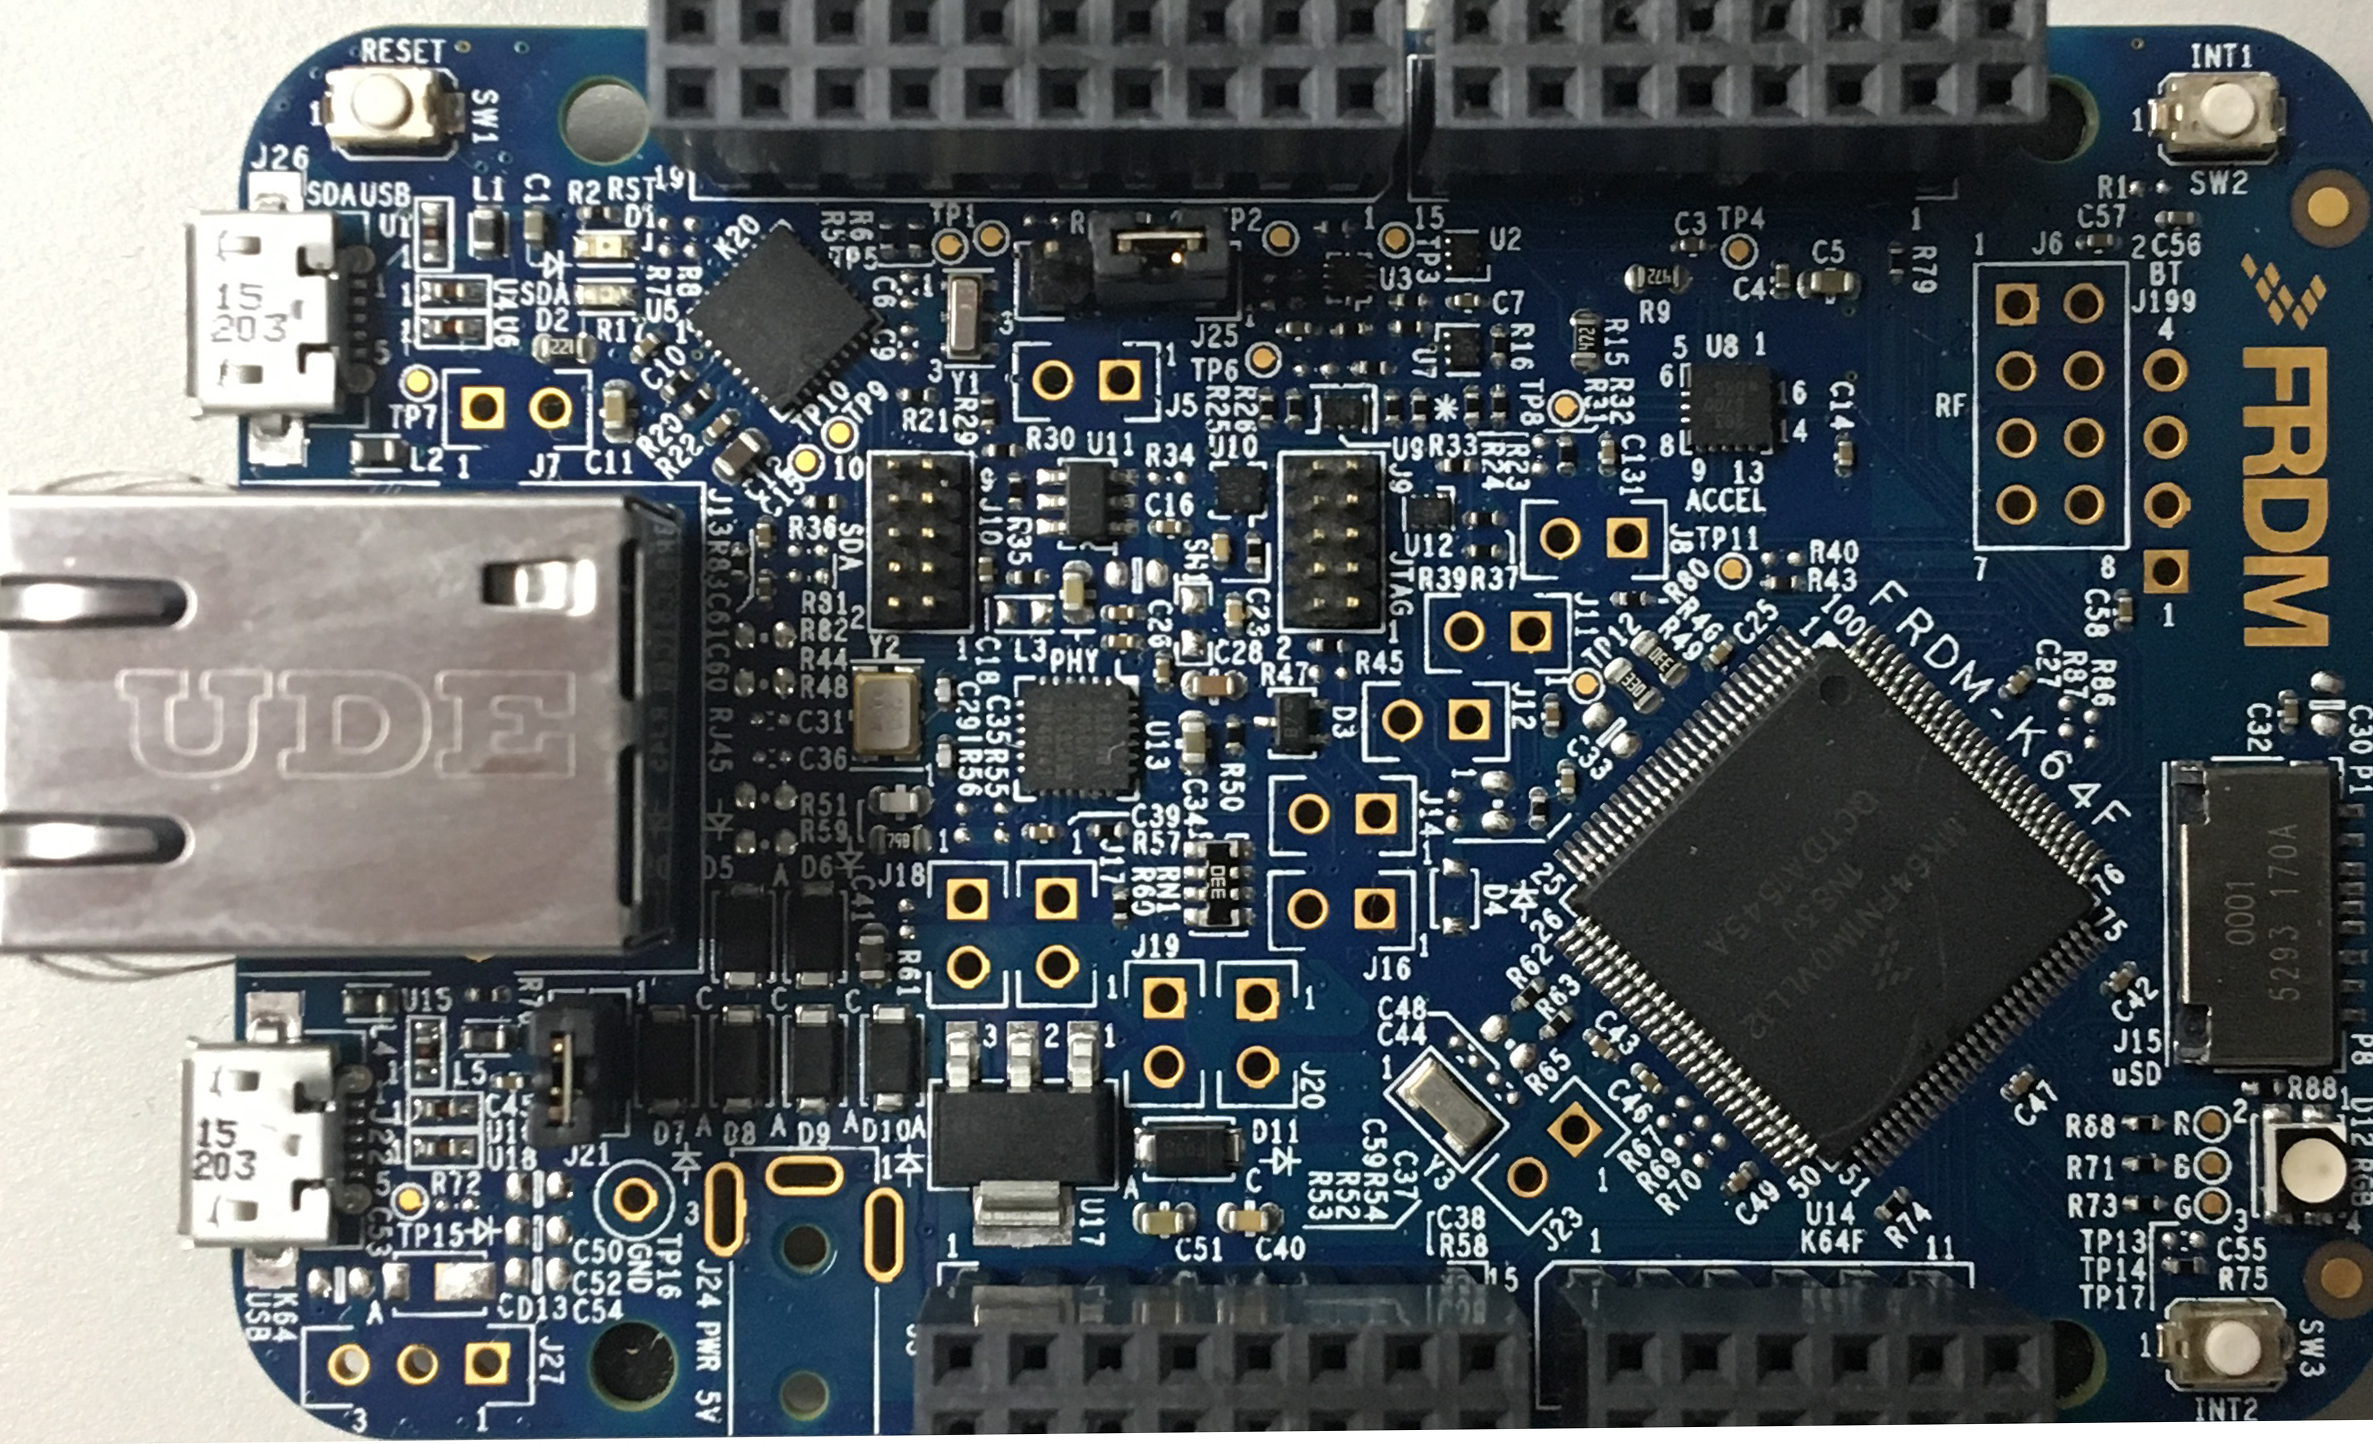button SW1: (324, 64, 461, 163)
button SW2: (2161, 73, 2288, 163)
button SW3: (2166, 1298, 2287, 1395)
capacitor C1: (522, 205, 547, 251)
capacitor C10: (629, 329, 663, 364)
capacitor C11: (600, 380, 634, 446)
capacitor C12: (700, 407, 737, 446)
capacitor C13: (1598, 432, 1615, 476)
capacitor C14: (1834, 430, 1854, 483)
capacitor C15: (712, 429, 768, 483)
capacitor C16: (1146, 519, 1193, 541)
capacitor C18: (973, 547, 997, 597)
capacitor C23: (1224, 595, 1244, 637)
capacitor C25: (1703, 637, 1736, 668)
capacitor C26: (1153, 651, 1175, 693)
capacitor C27: (2000, 664, 2032, 702)
capacitor C28: (1180, 671, 1249, 703)
capacitor C29: (934, 671, 953, 715)
capacitor C3: (1673, 236, 1714, 256)
capacitor C32: (2275, 690, 2304, 737)
capacitor C34: (1176, 712, 1210, 776)
capacitor C35: (932, 736, 953, 776)
capacitor C37: (1558, 763, 1578, 803)
capacitor C39: (1024, 824, 1058, 842)
capacitor C4: (1773, 259, 1792, 302)
capacitor C40: (1219, 1205, 1281, 1237)
capacitor C41: (858, 929, 892, 986)
capacitor C42: (2102, 959, 2137, 997)
capacitor C43: (1585, 1027, 1617, 1063)
capacitor C45: (486, 1073, 527, 1091)
capacitor C46: (1634, 1064, 1663, 1098)
capacitor C47: (1998, 1064, 2039, 1103)
capacitor C49: (1724, 1163, 1754, 1200)
capacitor C5: (1797, 264, 1861, 303)
capacitor C51: (1136, 1203, 1197, 1237)
capacitor C56: (2153, 210, 2198, 230)
capacitor C57: (2066, 230, 2120, 254)
capacitor C58: (2117, 590, 2136, 632)
capacitor C59: (1542, 695, 1561, 737)
capacitor C7: (1449, 292, 1485, 314)
capacitor unknown: (1275, 320, 1320, 337), (1102, 605, 1142, 624), (1212, 530, 1231, 569), (1102, 632, 1141, 651)
clock Y1: (942, 269, 986, 364)
clock Y2: (846, 663, 927, 773)
clock Y3: (1398, 1058, 1498, 1158)
component text" "0001 5293 170A: (2220, 815, 2309, 1007)
component text" "15 203: (203, 276, 303, 351), (190, 1115, 263, 1186)
component text" "203 8700 DKG: (1702, 376, 1749, 432)
component text" "MK64FN1M0VLL12 1N83J QCTDA1545A: (1697, 775, 1981, 1037)
component text" 330: (1209, 863, 1227, 903)
component text" 472: (1576, 325, 1597, 354), (1646, 266, 1673, 286)
component text" 798: (886, 830, 910, 851)
component text" B79: (1281, 697, 1302, 741)
component text" F03: (1173, 1141, 1212, 1158)
component text" UDE: (103, 659, 598, 793)
connector J10: (868, 451, 973, 636)
connector J11: (1425, 593, 1570, 671)
connector J12: (1363, 681, 1509, 759)
connector J14: (1266, 775, 1417, 858)
connector J15: (2165, 758, 2370, 1068)
connector J16: (1266, 871, 1415, 951)
connector J17: (1017, 859, 1097, 1010)
connector J18: (931, 863, 1007, 1010)
connector J19: (1124, 959, 1205, 1108)
connector J199: (2136, 342, 2200, 605)
connector J20: (1214, 963, 1297, 1108)
connector J22: (176, 990, 361, 1291)
connector J23: (1471, 1076, 1631, 1232)
connector J24: (705, 1147, 907, 1436)
connector J25: (1012, 236, 1088, 320)
connector J26: (181, 207, 370, 430)
connector J27: (303, 1329, 534, 1407)
connector J5: (1012, 341, 1163, 424)
connector J6: (1973, 261, 2131, 553)
connector J7: (2, 469, 703, 983), (444, 368, 592, 447)
connector J8: (1522, 500, 1666, 580)
connector J9: (1278, 451, 1385, 632)
connector unknown: (647, 2, 1409, 200), (1417, 2, 2054, 203), (910, 1266, 1536, 1444), (1549, 1261, 2070, 1442)
diode D10: (863, 1014, 924, 1110)
diode D11: (1141, 1119, 1236, 1181)
diode D3: (1258, 691, 1331, 763)
diode D5: (712, 886, 776, 985)
diode D6: (786, 885, 846, 985)
diode D7: (632, 1014, 698, 1112)
diode D8: (712, 1014, 775, 1110)
diode D9: (785, 1014, 846, 1108)
ic "MK64FN1M0VLL12 IN83J QCTDA1545A: (1549, 620, 2093, 1169)
ic K20: (685, 224, 871, 417)
ic U10: (1209, 459, 1270, 519)
ic U11: (1036, 459, 1139, 551)
ic U12: (1402, 486, 1454, 536)
ic U13: (1017, 676, 1139, 800)
ic U17: (927, 1017, 1122, 1251)
ic U2: (1442, 229, 1492, 281)
ic U3: (1325, 251, 1371, 303)
ic U7: (1436, 320, 1485, 376)
ic U8: (1685, 358, 1776, 454)
ic U9: (1315, 392, 1368, 436)
inductor L2: (347, 436, 410, 475)
inductor L4: (341, 986, 398, 1024)
inductor L5: (461, 1019, 514, 1058)
jumper J21: (527, 990, 629, 1147)
jumper J25: (1086, 202, 1242, 317)
led D1: (571, 229, 641, 268)
led D12: (2266, 1117, 2353, 1217)
led D2: (573, 276, 639, 315)
pads C30: (2307, 668, 2346, 742)
pads C31: (746, 708, 793, 732)
pads C33: (1580, 702, 1642, 763)
pads C36: (747, 747, 793, 771)
pads C44: (1487, 1071, 1522, 1108)
pads C48: (1446, 1030, 1485, 1073)
pads C50: (503, 1169, 576, 1208)
pads C52: (498, 1214, 576, 1252)
pads C53: (307, 1263, 373, 1305)
pads C54: (503, 1254, 571, 1295)
pads C55: (2158, 1229, 2210, 1254)
pads C6: (897, 269, 920, 314)
pads C9: (893, 320, 919, 369)
pads D13: (380, 1251, 497, 1319)
pads D4: (1427, 856, 1480, 936)
pads L3: (993, 593, 1058, 632)
pads R1: (2126, 176, 2175, 198)
pads R3: (1019, 207, 1068, 232)
pads R31: (786, 541, 836, 563), (1532, 432, 1549, 478)
pads R34: (1144, 468, 1193, 492)
pads R40: (1759, 549, 1809, 571)
pads R44: (736, 620, 798, 653)
pads R51: (731, 780, 798, 817)
pads R52: (1476, 768, 1517, 841)
pads R53: (1446, 783, 1468, 841)
pads R55: (993, 802, 1014, 847)
pads R56: (949, 798, 973, 849)
pads R59: (731, 827, 802, 863)
pads R65: (1481, 1015, 1537, 1071)
pads R67: (1658, 1095, 1693, 1129)
pads R69: (1675, 1115, 1709, 1149)
pads R7: (653, 214, 676, 259)
pads R70: (1693, 1134, 1727, 1168)
pads R72: (431, 1195, 485, 1215)
pads R8: (678, 214, 707, 264)
pads R82: (786, 564, 832, 590)
pads R86: (2081, 705, 2100, 754)
pads R87: (2058, 693, 2078, 742)
pads SW1: (1176, 581, 1210, 664)
pads unknown: (1102, 554, 1170, 597), (1292, 361, 1341, 381)
resistor R15: (1570, 308, 1598, 373)
resistor R16: (1487, 320, 1509, 373)
resistor R17: (529, 332, 598, 364)
resistor R2: (575, 203, 620, 224)
resistor R20: (659, 368, 693, 403)
resistor R21: (895, 386, 942, 408)
resistor R22: (676, 386, 714, 422)
resistor R23: (1488, 381, 1509, 430), (1409, 390, 1431, 432)
resistor R24: (1381, 386, 1405, 432), (1463, 385, 1481, 430)
resistor R25: (1258, 388, 1273, 430)
resistor R26: (1285, 386, 1303, 429)
resistor R29: (976, 395, 998, 437)
resistor R30: (980, 444, 1027, 459)
resistor R32: (1558, 436, 1576, 476)
resistor R33: (1434, 456, 1478, 475)
resistor R35: (1009, 564, 1048, 591), (1003, 471, 1025, 514)
resistor R36: (798, 492, 842, 512)
resistor R37: (1461, 508, 1512, 530)
resistor R39: (1459, 541, 1509, 568)
resistor R43: (1759, 571, 1805, 593)
resistor R45: (1303, 636, 1353, 658)
resistor R46: (1634, 629, 1685, 686)
resistor R47: (1307, 664, 1354, 686)
resistor R48: (732, 668, 798, 698)
resistor R49: (1607, 659, 1661, 714)
resistor R5: (873, 212, 898, 264)
resistor R50: (1222, 717, 1248, 759)
resistor R54: (1527, 788, 1549, 830)
resistor R57: (1086, 822, 1127, 842)
resistor R6: (902, 212, 927, 263)
resistor R60: (1112, 886, 1132, 927)
resistor R61: (897, 897, 917, 944)
resistor R62: (1514, 976, 1544, 1012)
resistor R63: (1537, 1008, 1571, 1041)
resistor R68: (2120, 1112, 2166, 1136)
resistor R7: (461, 986, 512, 1007)
resistor R71: (2122, 1154, 2168, 1176)
resistor R73: (2115, 1190, 2170, 1217)
resistor R74: (1875, 1190, 1907, 1224)
resistor R75: (2165, 1256, 2209, 1281)
resistor R79: (1887, 237, 1905, 286)
resistor R80: (1610, 590, 1653, 608)
resistor R88: (2242, 1081, 2287, 1098)
resistor R9: (1626, 264, 1693, 292)
resistor network" RN1: (1186, 832, 1249, 937)
resistor unknown: (870, 825, 931, 856), (1242, 532, 1266, 575), (1349, 361, 1393, 380), (1331, 320, 1373, 339), (1387, 293, 1431, 310), (1385, 320, 1427, 337)
test point" TP1: (975, 219, 1009, 258)
test point" TP10: (788, 444, 825, 481)
test point" TP11: (1715, 553, 1749, 591)
test point" TP12: (1568, 669, 1603, 705)
test point" TP13: (2193, 1105, 2231, 1142)
test point" TP14: (2193, 1146, 2231, 1185)
test point" TP15: (390, 1181, 425, 1224)
test point" TP16: (607, 1175, 663, 1229)
test point" TP17: (2190, 1188, 2236, 1224)
test point" TP2: (1263, 224, 1298, 254)
test point" TP3: (1376, 224, 1414, 258)
test point" TP4: (1720, 232, 1763, 273)
test point" TP5: (931, 225, 968, 264)
test point" TP6: (1246, 342, 1280, 378)
test point" TP7: (398, 363, 441, 403)
test point" TP8: (1546, 385, 1585, 429)
test point" TP9: (820, 419, 859, 453)
text *: (1432, 390, 1461, 429)
text -: (1985, 703, 2009, 725)
text 1: (1793, 612, 1820, 641), (370, 268, 388, 308), (1749, 329, 1771, 359), (1592, 1164, 1610, 1198), (2158, 598, 2176, 630), (1376, 1051, 1395, 1083), (1905, 207, 1926, 236), (1102, 975, 1122, 1003), (454, 451, 471, 485), (876, 1149, 893, 1183), (1164, 337, 1180, 375), (939, 1234, 963, 1258), (2127, 103, 2144, 136), (1302, 981, 1319, 1014), (1587, 1224, 1603, 1256), (1359, 203, 1376, 234), (953, 634, 968, 668), (1102, 1019, 1119, 1049), (1970, 229, 1987, 258), (1068, 829, 1085, 858), (1542, 675, 1573, 690), (307, 98, 322, 129), (937, 820, 949, 858), (2137, 1332, 2153, 1361), (1387, 615, 1400, 646), (1419, 837, 1432, 868), (1415, 930, 1431, 958), (475, 1407, 490, 1434), (922, 271, 934, 302), (2339, 1085, 2349, 1112)
text 10: (831, 453, 864, 483)
text 100: (1819, 590, 1866, 641)
text 11: (1924, 1234, 1958, 1263)
text 13: (1732, 454, 1764, 486)
text 14: (1775, 415, 1810, 447)
text 15: (1412, 203, 1448, 234), (1488, 1264, 1522, 1295)
text 16: (1776, 376, 1809, 408)
text 19: (653, 163, 692, 197)
text 2: (2127, 232, 2153, 264), (1041, 1020, 1063, 1051), (1275, 632, 1295, 663), (847, 603, 868, 632), (2231, 1097, 2248, 1129)
text 25: (1527, 863, 1570, 898)
text 26: (1525, 907, 1570, 946)
text 3: (990, 307, 1024, 337), (927, 356, 944, 388), (683, 1198, 702, 1227), (981, 1020, 998, 1051), (2232, 1207, 2249, 1234), (351, 1408, 368, 1434)
text 31: (1617, 464, 1651, 500)
text 4: (2153, 315, 2181, 346), (2342, 1212, 2363, 1237)
text 5: (368, 334, 393, 373), (1671, 330, 1690, 363), (375, 1168, 392, 1198)
text 50: (1787, 1164, 1820, 1200)
text 51: (1836, 1163, 1875, 1198)
text 5V: (693, 1386, 720, 1427)
text 6: (1656, 359, 1676, 392)
text 7: (1970, 556, 1990, 585)
text 75: (2088, 903, 2136, 946)
text 76: (2085, 859, 2132, 902)
text 8: (2098, 553, 2119, 583), (1656, 430, 1676, 459)
text 9: (1687, 453, 1710, 486), (976, 463, 997, 495)
text A: (1120, 1173, 1142, 1203), (770, 863, 792, 890), (693, 1114, 715, 1141), (841, 1107, 859, 1137), (909, 1114, 927, 1142), (366, 1298, 385, 1327), (770, 1114, 790, 1139)
text ACCEL: (1680, 483, 1770, 519)
text B: (2171, 1151, 2190, 1181)
text BT: (2144, 259, 2185, 286)
text C: (1241, 1166, 1266, 1197), (841, 986, 863, 1017), (693, 985, 715, 1014), (768, 985, 788, 1015)
text C1: (519, 168, 553, 210), (1620, 429, 1649, 468)
text C10: (637, 342, 688, 392)
text C11: (583, 447, 637, 481)
text C12: (736, 453, 788, 502)
text C14: (1827, 376, 1858, 432)
text C15: (754, 475, 809, 515)
text C16: (1141, 490, 1197, 520)
text C18: (975, 634, 1003, 686)
text C23: (1246, 586, 1273, 639)
text C25: (1726, 598, 1785, 646)
text C26: (1142, 598, 1175, 653)
text C27: (2034, 637, 2063, 691)
text C28: (1215, 637, 1264, 668)
text C29: (954, 680, 981, 732)
text C3: (1673, 207, 1710, 241)
text C30: (2348, 702, 2373, 753)
text C31: (793, 708, 849, 736)
text C32: (2242, 698, 2275, 756)
text C33: (1563, 734, 1617, 783)
text C34: (1180, 778, 1210, 830)
text C35: (981, 691, 1014, 746)
text C36: (798, 744, 847, 775)
text C37: (1392, 1147, 1424, 1202)
text C38: (1437, 1202, 1487, 1230)
text C39: (1131, 798, 1181, 829)
text C4: (1731, 271, 1768, 302)
text C40: (1253, 1234, 1309, 1264)
text C41: (849, 871, 876, 924)
text C42: (2110, 978, 2159, 1024)
text C43: (1588, 1003, 1648, 1059)
text C44: (1371, 1020, 1431, 1047)
text C45: (485, 1093, 537, 1120)
text C46: (1603, 1076, 1654, 1127)
text C47: (2012, 1078, 2059, 1125)
text C48: (1375, 993, 1429, 1020)
text C49: (1732, 1180, 1783, 1225)
text C5: (1807, 234, 1849, 264)
text C50: (573, 1236, 627, 1264)
text C51: (1173, 1236, 1227, 1264)
text C52: (570, 1268, 624, 1297)
text C53: (366, 1203, 395, 1266)
text C54: (570, 1297, 627, 1329)
text C55: (2214, 1234, 2271, 1263)
text C56: (2149, 230, 2205, 258)
text C57: (2075, 203, 2127, 229)
text C58: (2081, 585, 2112, 646)
text C59: (1359, 1115, 1392, 1169)
text C6: (870, 275, 897, 312)
text C60: (703, 641, 731, 698)
text C61: (703, 593, 736, 641)
text C7: (1487, 283, 1531, 320)
text C9: (868, 325, 898, 364)
text D1: (624, 202, 658, 230)
text D10: (863, 1115, 910, 1146)
text D11: (1249, 1114, 1302, 1147)
text D12: (2349, 1097, 2373, 1149)
text D13: (515, 1293, 568, 1320)
text D2: (536, 307, 573, 332)
text D3: (1331, 702, 1358, 746)
text D4: (1481, 881, 1510, 920)
text D5: (700, 849, 737, 885)
text D6: (800, 854, 836, 880)
text D7: (647, 1115, 688, 1147)
text D8: (720, 1120, 763, 1146)
text D9: (793, 1119, 832, 1149)
text FRDM: (2232, 341, 2337, 654), (1870, 575, 1997, 714)
text G: (2171, 1193, 2193, 1220)
text GND: (625, 1241, 656, 1298)
text INT1: (2187, 41, 2256, 71)
text INT2: (2193, 1393, 2263, 1424)
text J10: (975, 493, 1005, 551), (976, 495, 1005, 553)
text J11: (1571, 590, 1602, 641)
text J12: (1510, 680, 1537, 736)
text J13: (707, 486, 737, 537)
text J14: (1419, 786, 1446, 841)
text J15: (2110, 1025, 2163, 1059), (2112, 1025, 2163, 1056)
text J16: (1363, 952, 1414, 983)
text J17: (1098, 839, 1127, 886)
text J18: (876, 861, 929, 891)
text J19: (1127, 932, 1183, 958)
text J199: (2129, 286, 2202, 315)
text J20: (1298, 1058, 1331, 1114)
text J21: (563, 1142, 615, 1175)
text J22: (368, 1103, 393, 1171)
text J23: (1537, 1207, 1587, 1252)
text J24: (693, 1251, 724, 1313)
text J25: (1188, 322, 1246, 353)
text J26: (249, 136, 310, 171)
text J27: (537, 1334, 568, 1390)
text J5: (1164, 392, 1202, 424)
text J6: (2031, 229, 2070, 258)
text J7: (525, 453, 564, 485)
text J8: (1666, 522, 1698, 559)
text J9: (1387, 461, 1415, 497)
text JTAG: (1387, 547, 1415, 620)
text K20: (712, 210, 759, 266)
text K64: (271, 1290, 302, 1351)
text K64F: (2000, 714, 2134, 836), (1797, 1227, 1866, 1258)
text L1: (466, 171, 508, 205)
text L2: (410, 442, 447, 476)
text L3: (1010, 636, 1049, 664)
text L4: (370, 1024, 402, 1061)
text L5: (453, 1058, 486, 1088)
text P1: (2348, 761, 2373, 791)
text P2: (1227, 203, 1264, 236)
text P8: (2348, 1029, 2373, 1071)
text PHY: (1049, 646, 1102, 678)
text PWR: (693, 1319, 724, 1376)
text R: (1066, 207, 1088, 241), (2173, 1108, 2190, 1139)
text R1: (592, 314, 631, 351), (2095, 169, 2127, 203)
text R15: (1602, 310, 1632, 369)
text R16: (1507, 319, 1541, 376)
text R2: (564, 175, 607, 207)
text R20: (632, 414, 685, 458)
text R21: (902, 407, 949, 436)
text R22: (654, 430, 703, 480)
text R23: (1505, 441, 1532, 493)
text R24: (1476, 439, 1505, 493)
text R25: (1202, 383, 1232, 434)
text R26: (1232, 383, 1263, 436)
text R29: (953, 393, 978, 447)
text R30: (1022, 422, 1081, 454)
text R31: (1581, 375, 1609, 424)
text R32: (1607, 375, 1637, 425)
text R33: (1425, 430, 1480, 459)
text R34: (1142, 437, 1198, 471)
text R35: (1005, 514, 1034, 568)
text R36: (785, 514, 837, 541)
text R37: (1470, 564, 1524, 597)
text R39: (1419, 564, 1470, 591)
text R40: (1805, 537, 1864, 564)
text R44: (1802, 566, 1859, 593), (797, 646, 851, 673)
text R45: (1353, 647, 1405, 678)
text R46: (1673, 593, 1726, 642)
text R47: (1254, 659, 1310, 690)
text R48: (800, 671, 851, 703)
text R49: (1653, 614, 1709, 669)
text R5: (819, 208, 846, 244)
text R50: (1217, 759, 1248, 814)
text R51: (798, 788, 849, 819)
text R52: (1336, 1171, 1363, 1220)
text R53: (1302, 1168, 1336, 1220)
text R54: (1361, 1169, 1392, 1224)
text R55: (983, 747, 1010, 800)
text R56: (954, 747, 985, 798)
text R57: (1131, 829, 1181, 859)
text R58: (1437, 1230, 1492, 1258)
text R59: (798, 815, 853, 847)
text R6: (849, 208, 875, 242)
text R60: (1129, 866, 1156, 924)
text R61: (895, 947, 922, 998)
text R62: (1502, 941, 1553, 988)
text R63: (1532, 971, 1583, 1024)
text R65: (1519, 1046, 1581, 1097)
text R67: (1615, 1124, 1663, 1175)
text R68: (2063, 1110, 2120, 1141)
text R69: (1632, 1147, 1681, 1198)
text R7: (517, 975, 547, 1012), (644, 263, 673, 297)
text R70: (1653, 1169, 1705, 1215)
text R71: (2065, 1152, 2115, 1181)
text R72: (429, 1168, 488, 1198)
text R73: (2065, 1191, 2120, 1219)
text R74: (1881, 1202, 1932, 1247)
text R75: (2214, 1263, 2273, 1291)
text R79: (1907, 242, 1942, 300)
text R8: (675, 264, 703, 298)
text R80: (1659, 556, 1710, 603)
text R81: (798, 588, 849, 617)
text R82: (800, 615, 849, 646)
text R83: (703, 537, 732, 593)
text R86: (2088, 656, 2120, 712)
text R87: (2061, 649, 2090, 702)
text R88: (2283, 1075, 2337, 1098)
text R9: (1637, 293, 1673, 325)
text RESET: (356, 31, 451, 68)
text RF: (1932, 386, 1970, 425)
text RGB: (2349, 1154, 2373, 1207)
text RJ45: (707, 707, 737, 773)
text RN1: (1154, 863, 1183, 917)
text RST: (605, 171, 658, 207)
text SDA: (836, 519, 868, 571), (307, 178, 361, 208), (520, 278, 575, 308)
text SW1: (470, 85, 502, 147)
text SW2: (2188, 169, 2253, 198)
text SW3: (2295, 1313, 2331, 1380)
text TP1: (927, 200, 981, 229)
text TP10: (785, 371, 853, 436)
text TP11: (1693, 522, 1763, 554)
text TP12: (1580, 612, 1642, 669)
text TP13: (2076, 1225, 2148, 1254)
text TP14: (2080, 1258, 2149, 1283)
text TP15: (395, 1219, 470, 1251)
text TP16: (654, 1230, 685, 1307)
text TP17: (2078, 1281, 2149, 1313)
text TP3: (1414, 236, 1442, 286)
text TP4: (1715, 202, 1768, 236)
text TP5: (825, 241, 880, 276)
text TP6: (1188, 356, 1244, 383)
text TP7: (385, 398, 442, 436)
text TP8: (1515, 375, 1549, 430)
text TP99: (841, 378, 893, 422)
text U1: (373, 210, 419, 244)
text U10: (1205, 430, 1263, 463)
text U11: (1083, 425, 1136, 458)
text U12: (1403, 532, 1459, 563)
text U13: (1142, 719, 1175, 778)
text U14: (1803, 1198, 1858, 1225), (486, 1119, 537, 1146)
text U15: (398, 986, 453, 1014)
text U17: (1076, 1193, 1110, 1249)
text U18: (485, 1144, 542, 1173)
text U2: (1487, 220, 1524, 258)
text U3: (1376, 263, 1419, 293)
text U4: (492, 275, 520, 314)
text U5: (641, 297, 680, 325)
text U6: (492, 315, 524, 351)
text U7: (1409, 341, 1437, 383)
text U8: (1702, 329, 1744, 363)
text U9: (1392, 434, 1425, 464)
text USB: (242, 1290, 271, 1347), (359, 178, 415, 207)
text Y1: (948, 368, 985, 397)
text Y2: (868, 634, 905, 663)
text Y3: (1424, 1151, 1459, 1197)
text uSD: (2112, 1058, 2163, 1091)
unknown L1: (464, 207, 508, 261)
unknown U1: (414, 195, 453, 271)
unknown U15: (403, 1017, 446, 1093)
unknown U16: (407, 1093, 481, 1129)
unknown U18: (405, 1134, 485, 1169)
unknown U4: (412, 276, 490, 312)
unknown U6: (414, 310, 493, 351)
unknown unknown: (1059, 563, 1097, 624), (870, 788, 925, 819)
